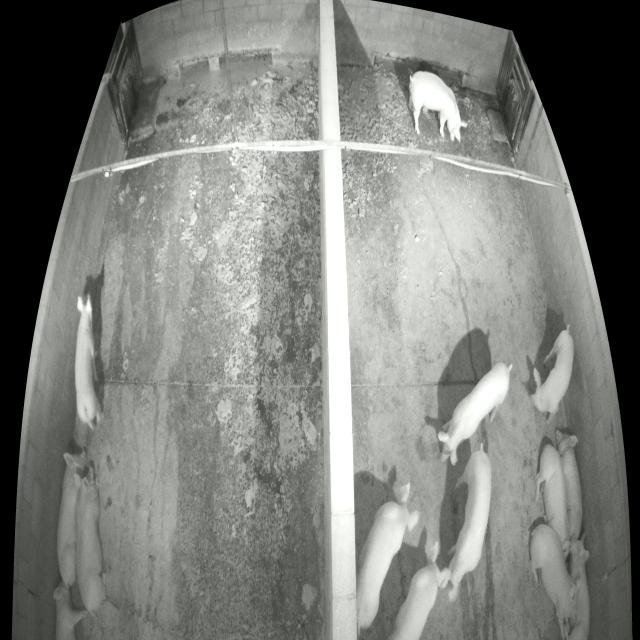pig: (356, 483, 419, 630), (438, 363, 510, 466), (448, 449, 491, 603), (528, 524, 582, 639), (387, 540, 449, 637), (74, 464, 106, 612), (56, 449, 88, 588), (535, 441, 573, 558), (74, 291, 105, 432), (529, 330, 574, 425), (409, 71, 468, 143), (555, 426, 584, 543), (566, 532, 591, 639), (53, 581, 87, 638)
